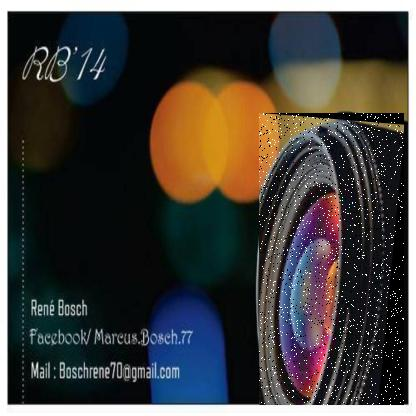Camera: (260, 114, 406, 407)
